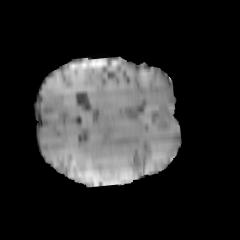glioma: (74, 126, 146, 178)
